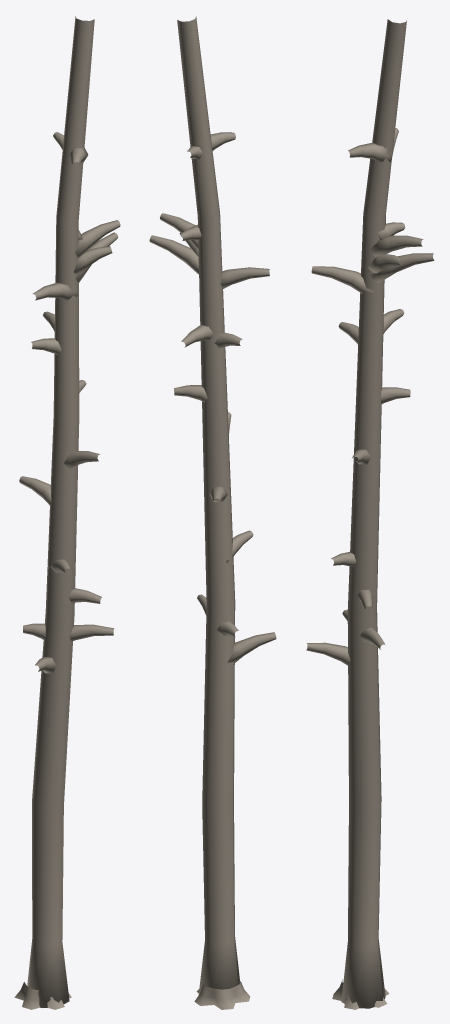
Rendered from alpine-and-arctic-biomes-alpine-larch-winter-3430e974__20929.glb.
3 renders of one model, left to right at view 1: azimuth 30°, elevation 25°; view 2: azimuth 150°, elevation 25°; view 3: azimuth 330°, elevation 25°, orthographic. The views are drawn at different scales.
Parts seen in each view (by area): view 1: alpine-larch-winter; view 2: alpine-larch-winter; view 3: alpine-larch-winter.
Boxes of the visible parts, x1,y1,x2,y2 form: alpine-larch-winter: (14, 16, 120, 1009); alpine-larch-winter: (149, 16, 276, 1009); alpine-larch-winter: (306, 19, 434, 1009).
Bounding box in the file's own units: 1.48 × 13.01 × 1.22.
